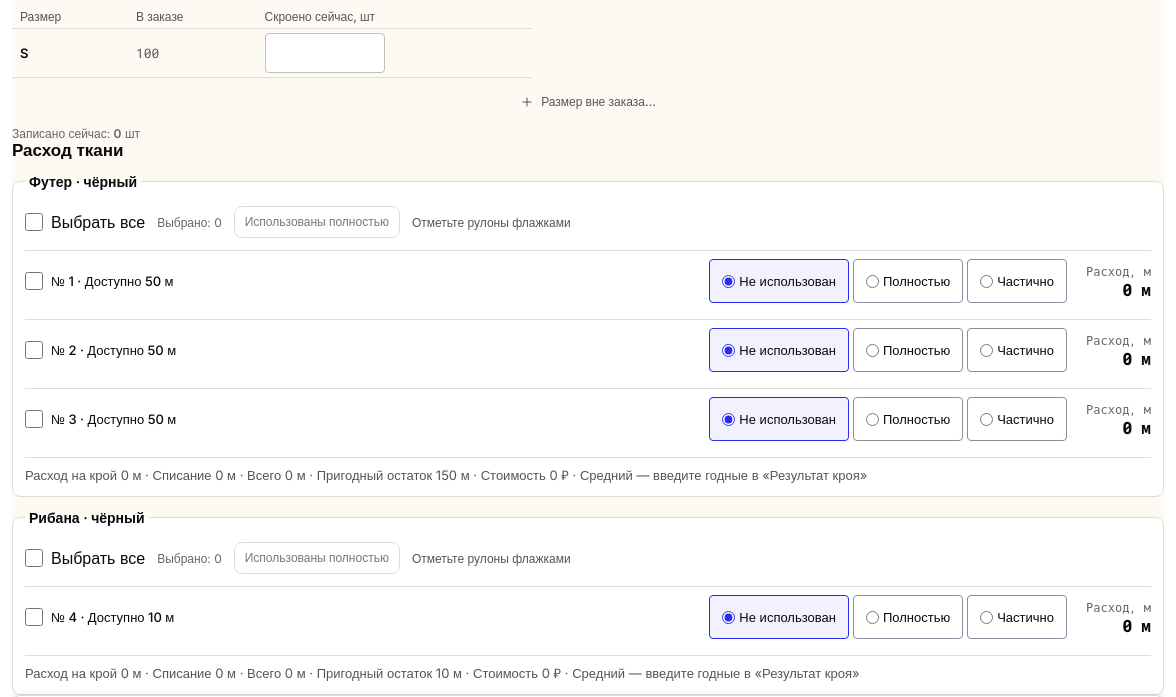
Test: CutTotalsBar › средний по материалу, один status
This screenshot has width=1176, height=697.
Type "100" into the number field named "Скроено, шт — S". click: (324, 53)
box: [264,33,384,73]
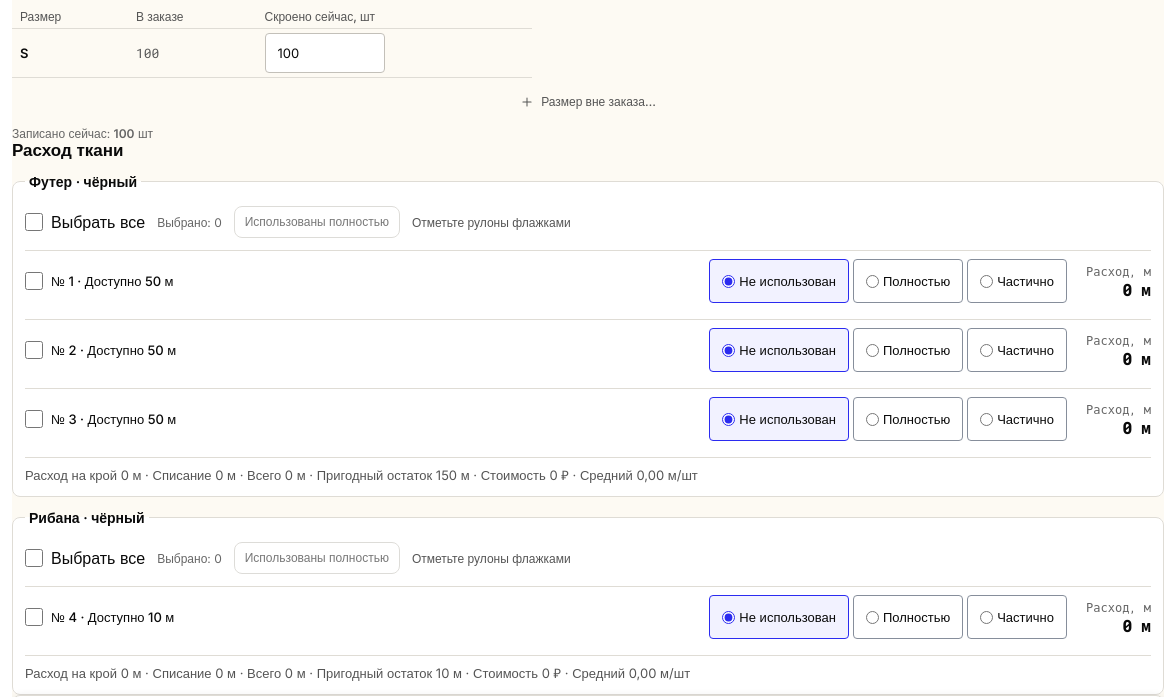
Click the 1st radio button labelled "Полностью". click: (872, 281)
box: [866,274,879,288]
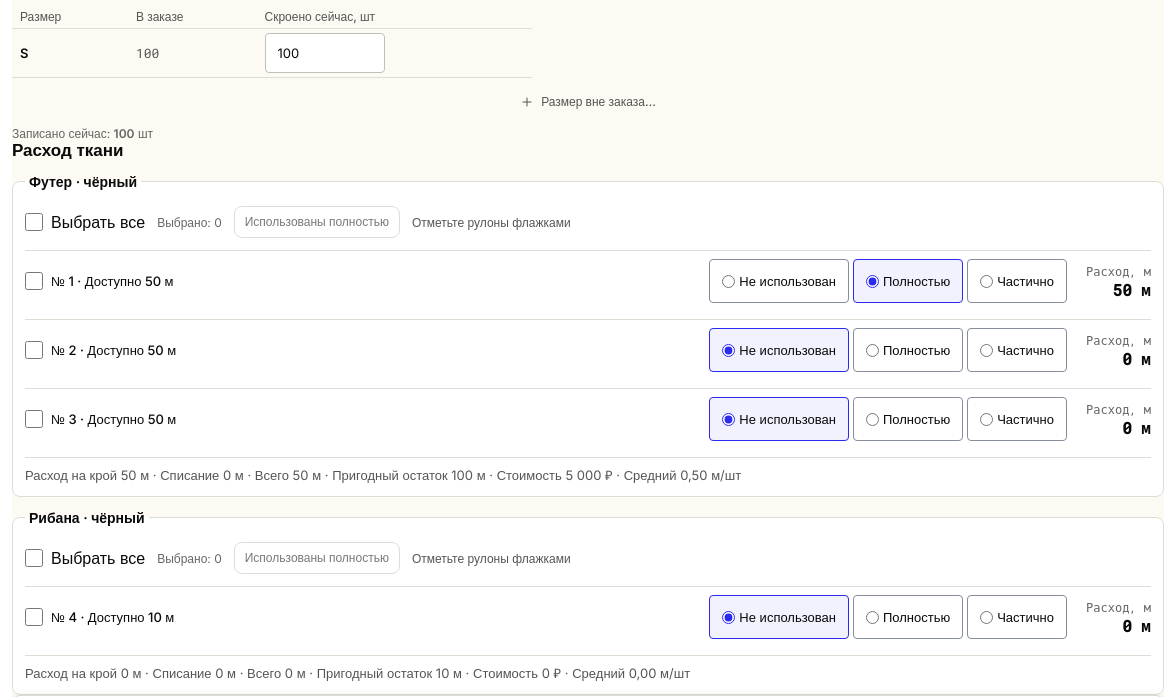
Click the 2nd radio button labelled "Частично". click: (987, 350)
box: [980,344,993,356]
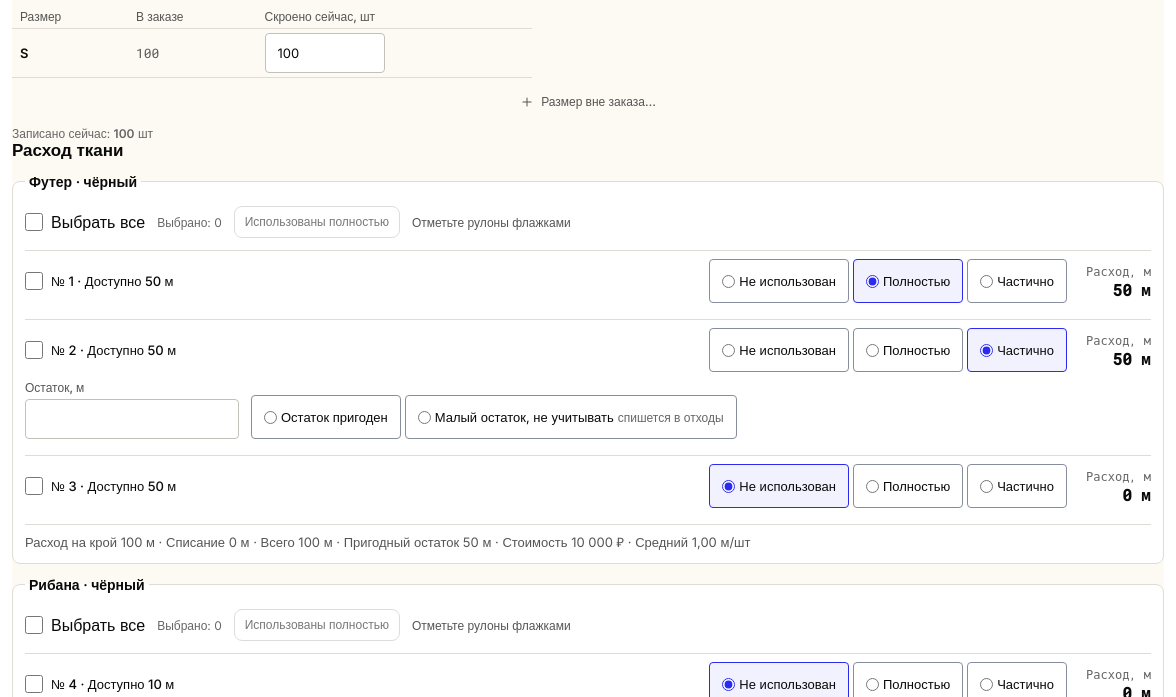
Type "12" into the number field named "Остаток, м — рулон №2". click: (132, 419)
box: [25,399,239,439]
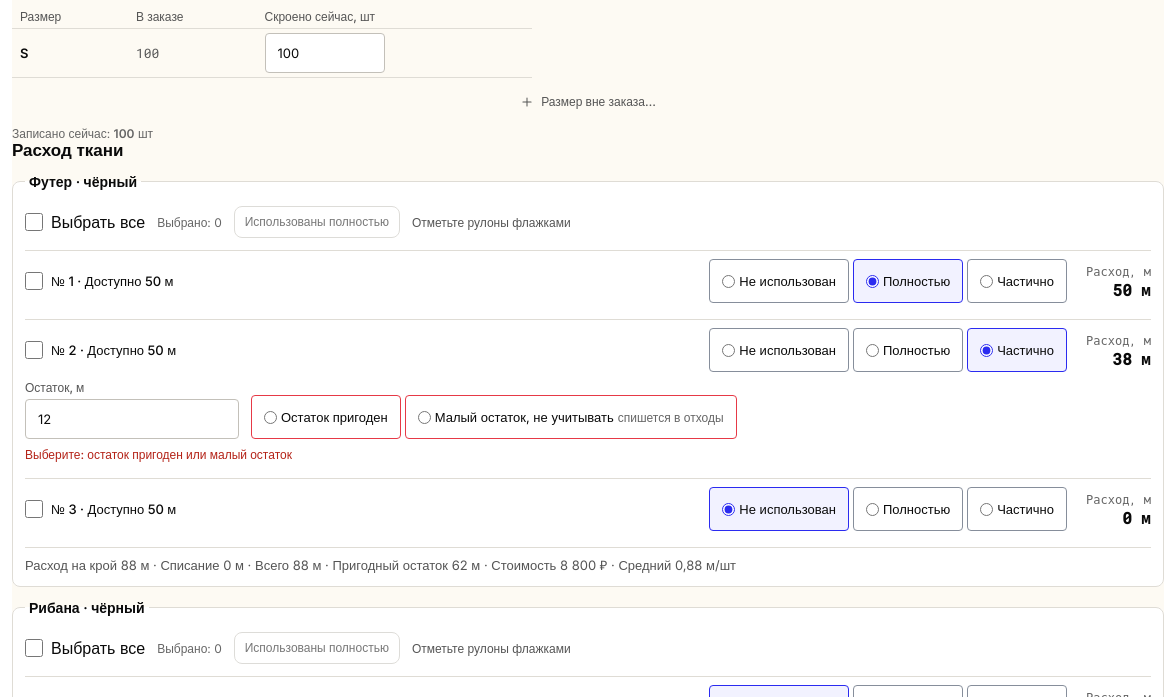
Click the radio button labelled "Остаток пригоден". click: (270, 417)
box: [264,410,277,424]
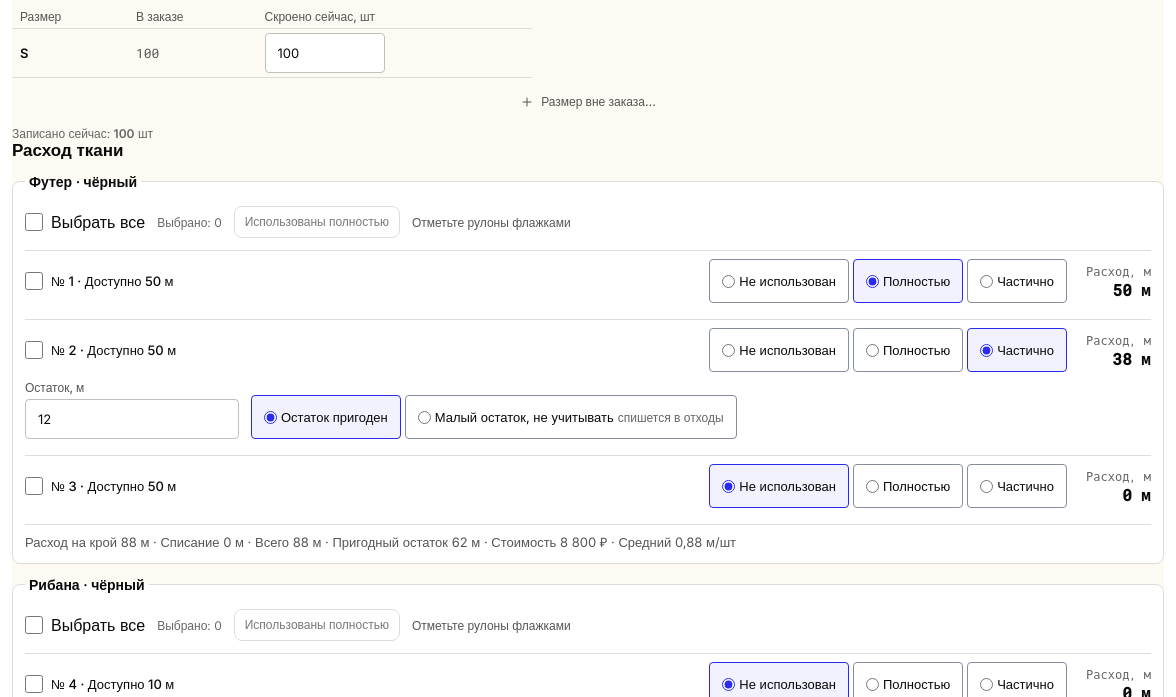
Click the 4th radio button labelled "Полностью". click: (872, 684)
box: [866,678,879,690]
(page scrolled)
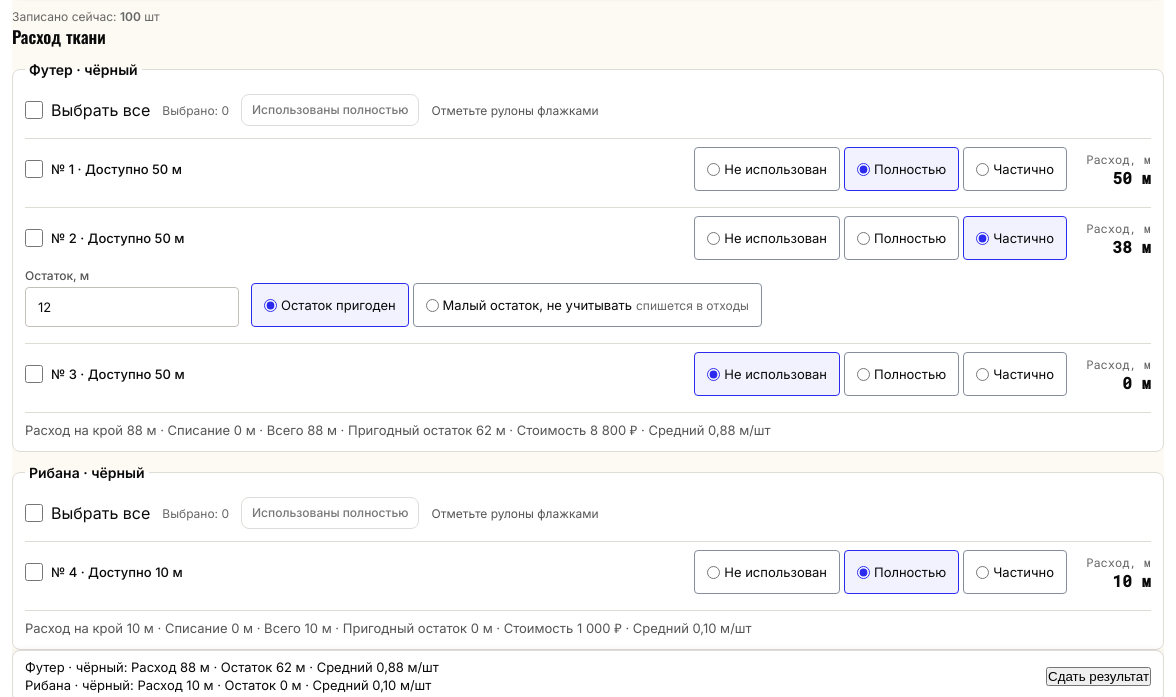
Expected: the button "Сдать результат" is shown, [1046,666,1151,686]
Expected: the text "Футер · чёрный" reads "Футер · чёрный: Расход 88 м · Остаток 62 м · Средний 0,88 м/шт", [25,659,439,675]
Expected: the text "Рибана · чёрный" reads "Рибана · чёрный: Расход 10 м · Остаток 0 м · Средний 0,10 м/шт", [25,677,439,693]
